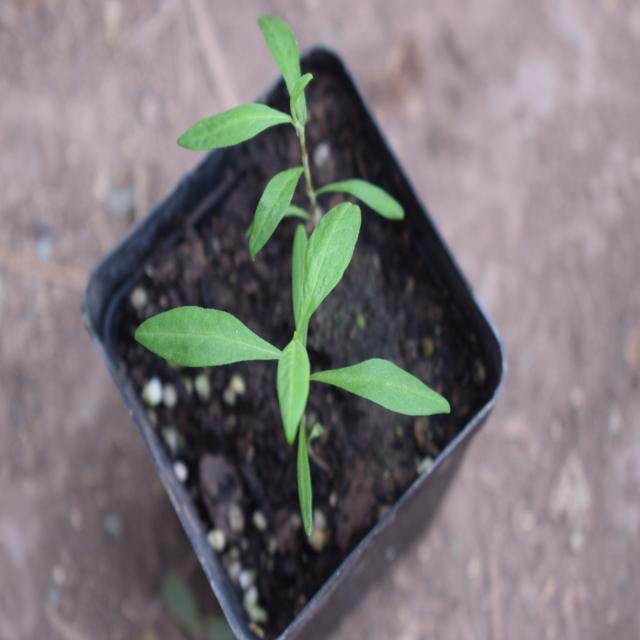white_smart_weed: (131, 205, 432, 461), (169, 8, 396, 226)
